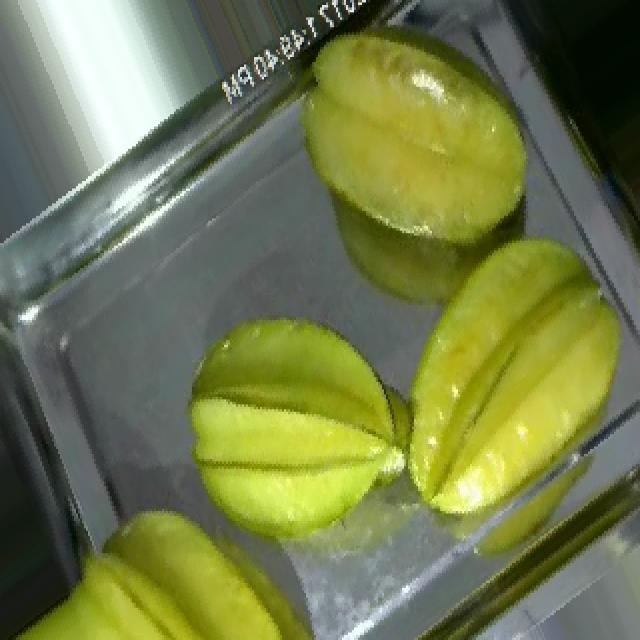fruit: (138, 255, 480, 603), (342, 199, 640, 563), (260, 3, 582, 315), (2, 474, 362, 640)
